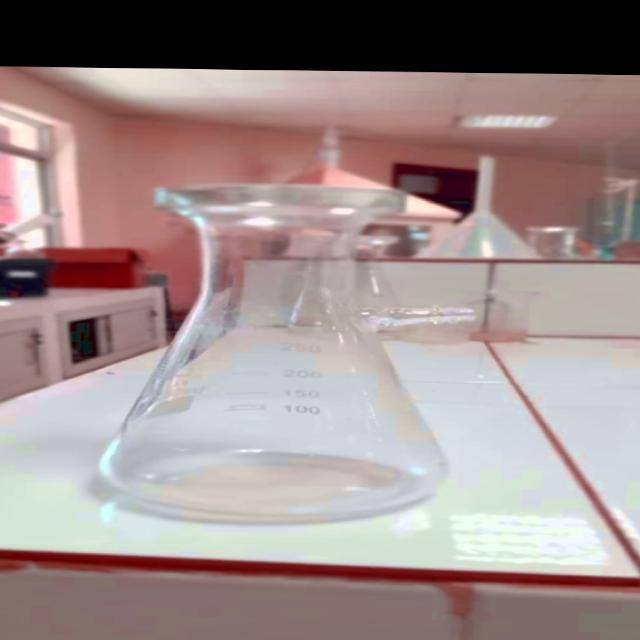Filtration Flask: (34, 176, 470, 524)
